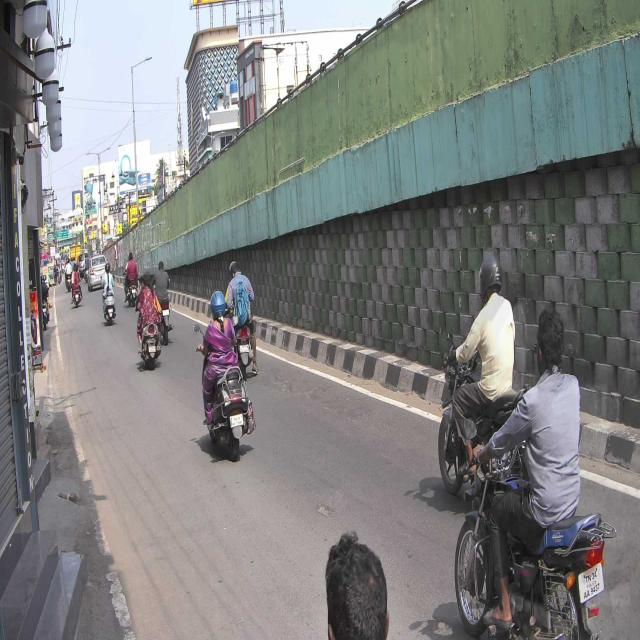single_rider: (453, 306, 616, 640), (192, 287, 256, 463)
